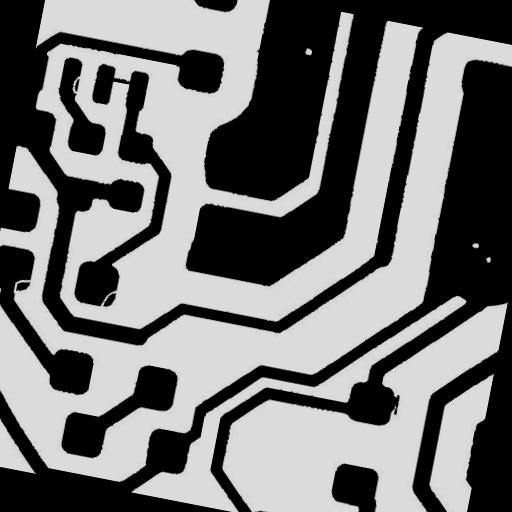mousebite: (62, 66, 92, 104)
open: (4, 268, 42, 306), (90, 279, 126, 318)
pin-hole: (296, 39, 321, 64), (462, 233, 488, 257)
short: (98, 68, 146, 94)
spur: (378, 384, 408, 424)
